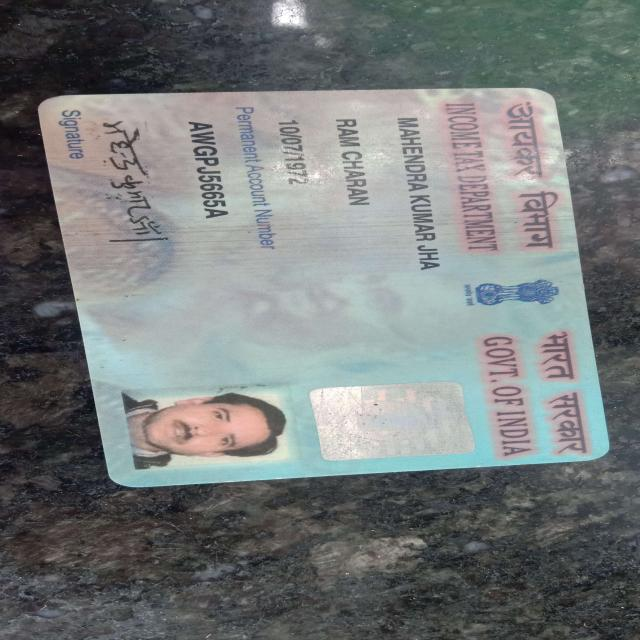pan_card: (43, 90, 611, 488)
